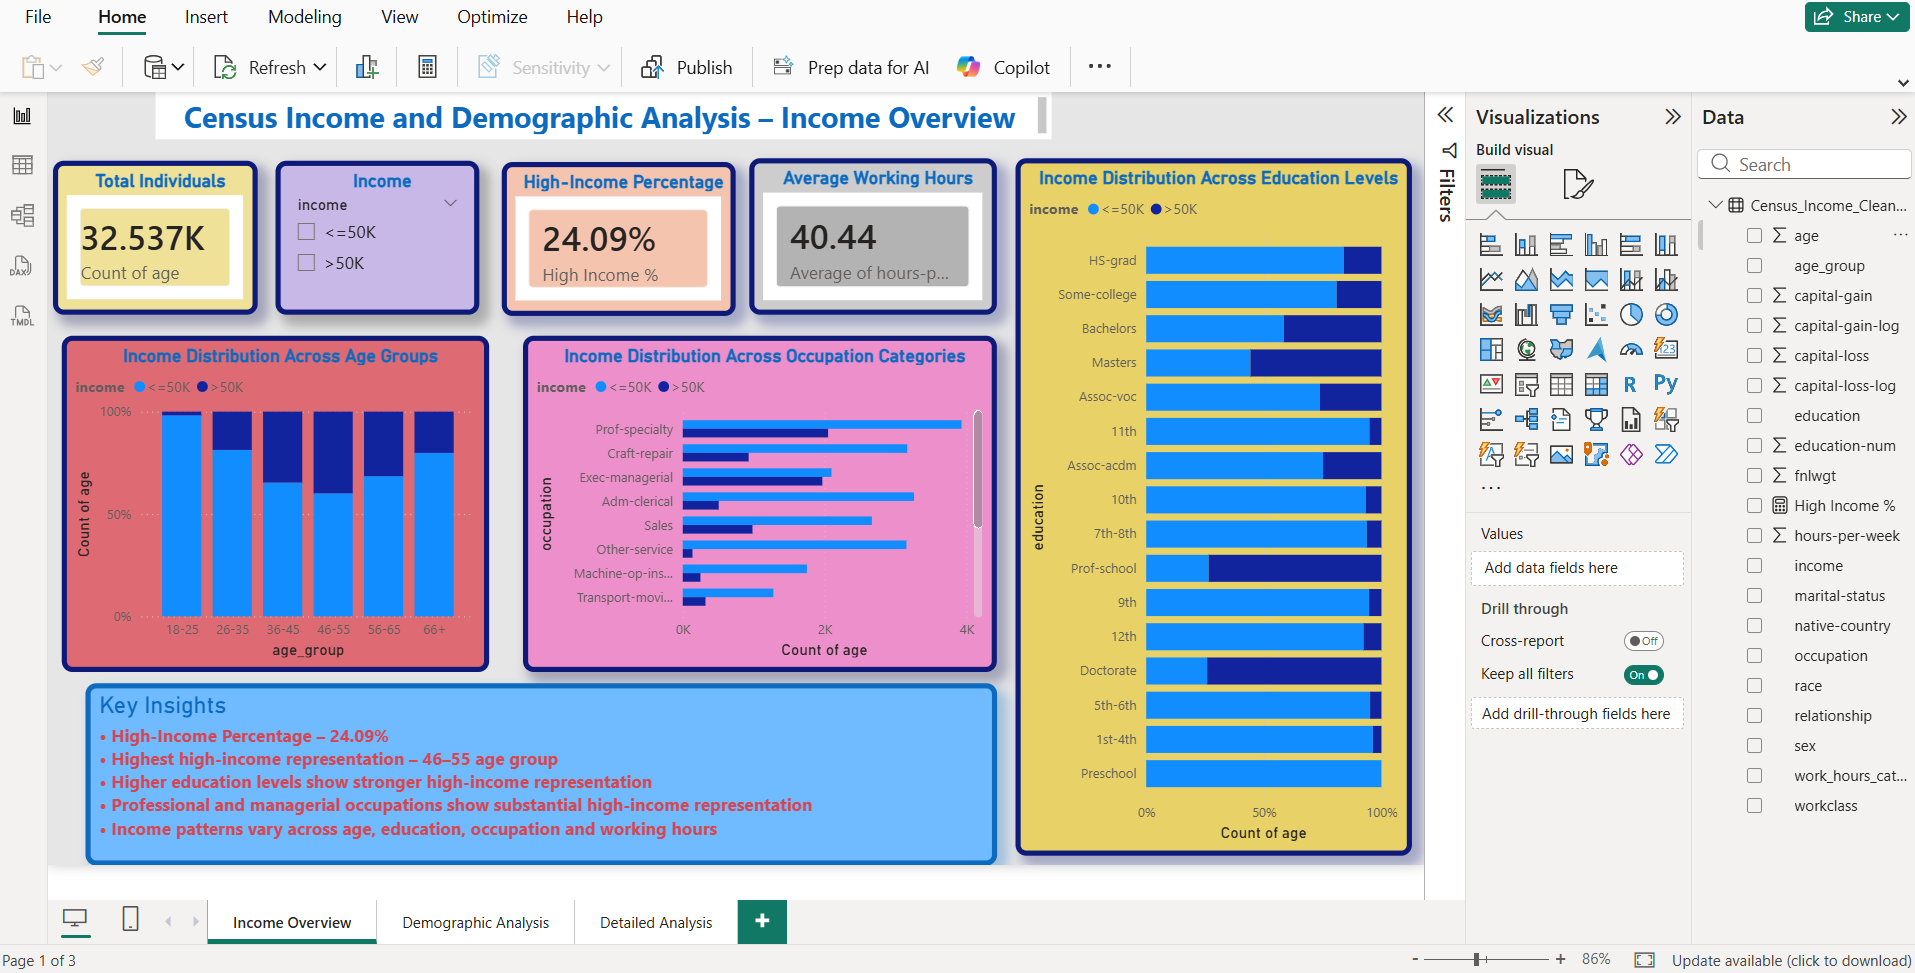

The dashboard page shown, as its layout file describes it:
{"tool":"powerbi","page":{"name":"Income Overview","canvas":[1280,720],"ordinal":0},"visuals":[{"type":"slicer","title":"Income","fields":{"Values":["Census_Income_Cleaned.income"]},"box":[211.6,64,189.5,143],"z":0},{"type":"hundredPercentStackedColumnChart","title":"Income Distribution Across Age Groups","fields":{"Category":["Census_Income_Cleaned.age_group"],"Series":["Census_Income_Cleaned.income"],"Y":["CountNonNull(Census_Income_Cleaned.age)"]},"box":[12.8,226.7,397.7,312.8],"z":1000},{"type":"hundredPercentStackedBarChart","title":"Income Distribution Across Education Levels","fields":{"Category":["Census_Income_Cleaned.education"],"Series":["Census_Income_Cleaned.income"],"Y":["CountNonNull(Census_Income_Cleaned.age)"]},"box":[900,61.6,368.6,648.8],"z":2000},{"type":"clusteredBarChart","title":"Income Distribution Across Occupation Categories","fields":{"Category":["Census_Income_Cleaned.occupation"],"Series":["Census_Income_Cleaned.income"],"Y":["CountNonNull(Census_Income_Cleaned.age)"]},"box":[441.9,226.7,440.7,312.8],"z":3000},{"type":"textbox","box":[100,0,833.7,44.2],"z":4000},{"type":"cardVisual","title":"Total Individuals","fields":{"Data":["CountNonNull(Census_Income_Cleaned.age)"]},"box":[4.7,64,190.7,143],"z":5000},{"type":"cardVisual","title":"High-Income Percentage","fields":{"Data":["Census_Income_Cleaned.High Income %"]},"box":[422.1,65.1,217.4,143],"z":6000},{"type":"cardVisual","title":"Average Working Hours","fields":{"Data":["Avg(Census_Income_Cleaned.hours-per-week)"]},"box":[652.3,61.6,230.2,145.3],"z":7000},{"type":"textbox","title":"Key Insights","box":[34.9,550,847.7,169.8],"z":8000}]}

Visuals, with their boxes on the page's 1280x720 design canvas (x1, y1, x2, y2). These are canvas units, not pixel positions in the 1915x973 screenshot, which may show the page scaled, cropped or inside an application window:
"Income" slicer: BBox(212, 64, 401, 207)
"Income Distribution Across Age Groups" hundredPercentStackedColumnChart: BBox(13, 227, 410, 540)
"Income Distribution Across Education Levels" hundredPercentStackedBarChart: BBox(900, 62, 1269, 710)
"Income Distribution Across Occupation Categories" clusteredBarChart: BBox(442, 227, 883, 540)
textbox: BBox(100, 0, 934, 44)
"Total Individuals" cardVisual: BBox(5, 64, 195, 207)
"High-Income Percentage" cardVisual: BBox(422, 65, 640, 208)
"Average Working Hours" cardVisual: BBox(652, 62, 882, 207)
"Key Insights" textbox: BBox(35, 550, 883, 720)
